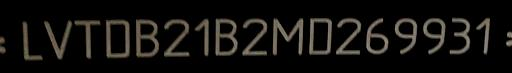letter: (269, 14, 305, 59), (72, 15, 104, 64), (160, 16, 194, 61), (332, 11, 362, 60), (42, 16, 76, 59), (104, 15, 132, 64), (306, 13, 334, 60), (390, 14, 418, 59), (418, 15, 446, 58), (240, 16, 268, 59), (16, 18, 44, 61), (210, 14, 236, 59), (447, 14, 473, 57), (364, 16, 390, 59), (474, 11, 496, 60), (135, 17, 159, 60), (190, 13, 212, 58)
